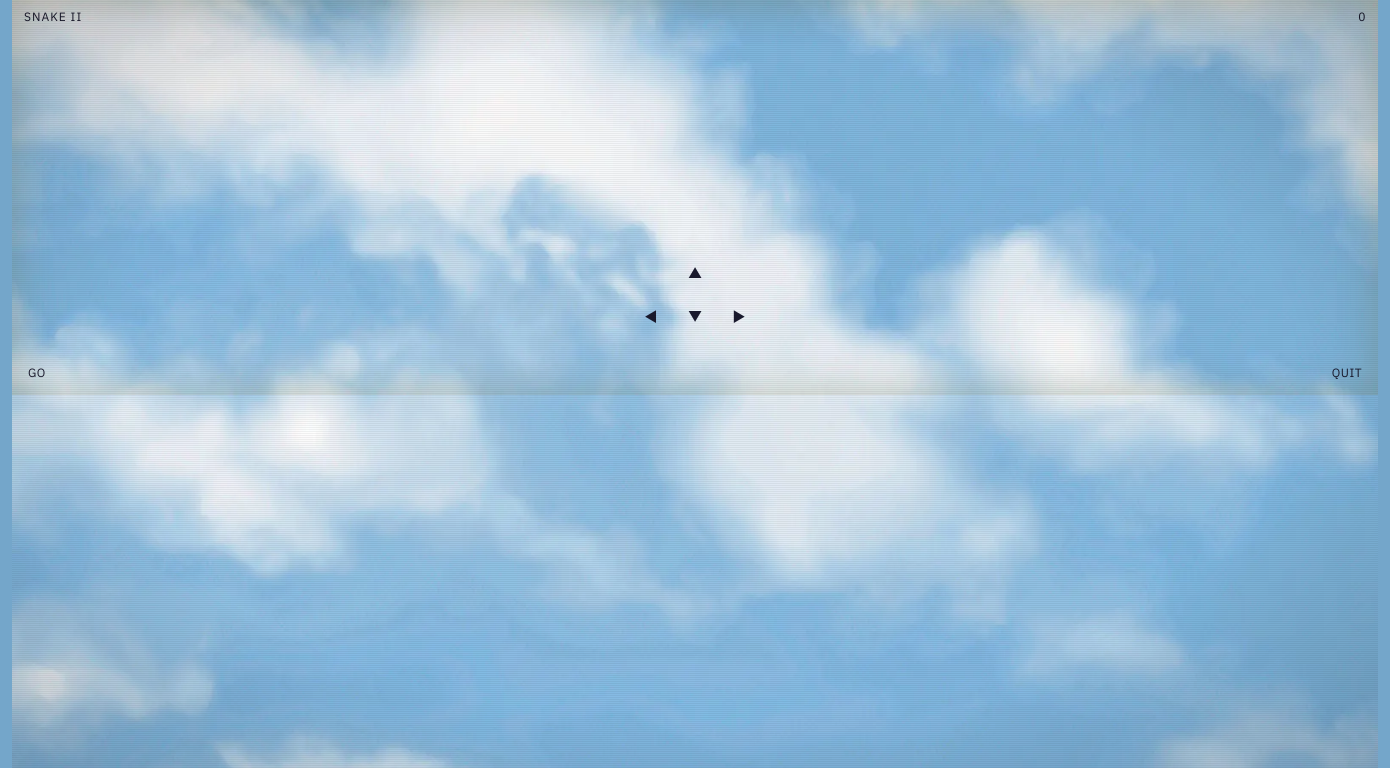
Test: SnakeII › starts the game from an on-screen d-pad button
Click the button named "left" at point(651, 317), box [631,297,671,337]
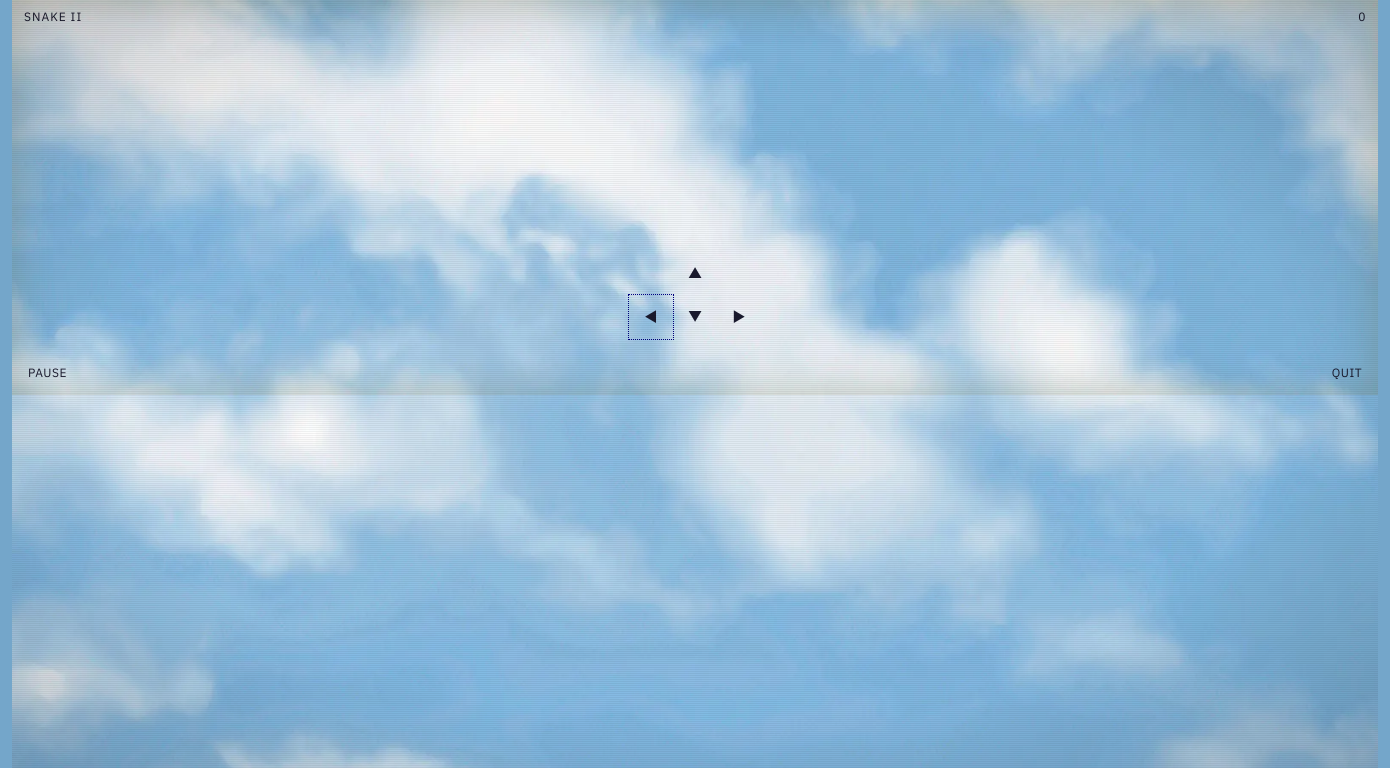
Check: the button "Pause" is shown, box [12,351,83,395]
